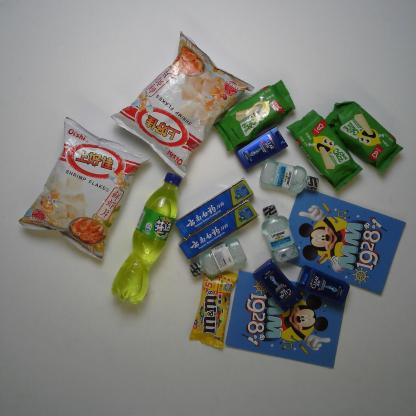Chocolate: (186, 265, 240, 352)
Dessert: (285, 107, 364, 193), (320, 98, 406, 176), (212, 78, 298, 154)
Drink: (109, 170, 184, 308)
Personal Hygiene: (171, 176, 256, 242), (176, 198, 261, 263), (252, 258, 304, 314), (188, 235, 249, 282), (259, 202, 302, 266), (257, 156, 322, 197), (233, 126, 289, 172), (294, 264, 352, 306)
Puffed Food: (107, 28, 256, 180), (17, 113, 154, 263)
Stationery: (283, 186, 408, 298), (223, 267, 350, 372)
